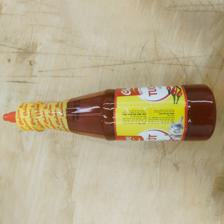Tuong: (2, 82, 216, 141)
